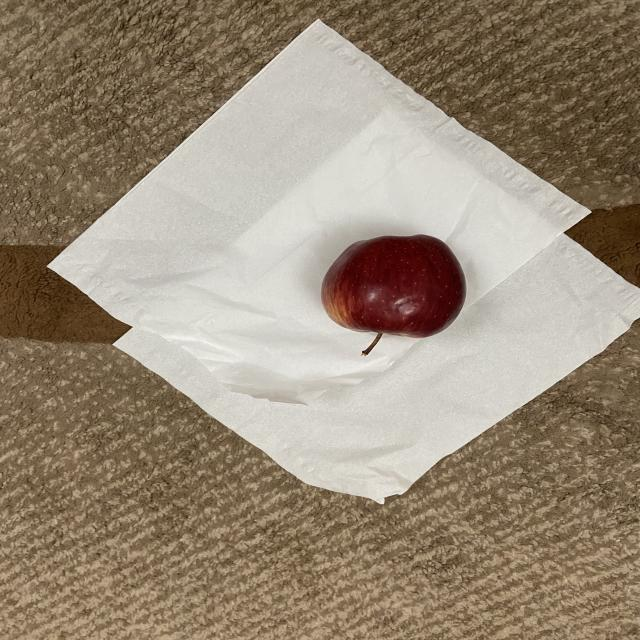apple: (316, 228, 472, 358)
